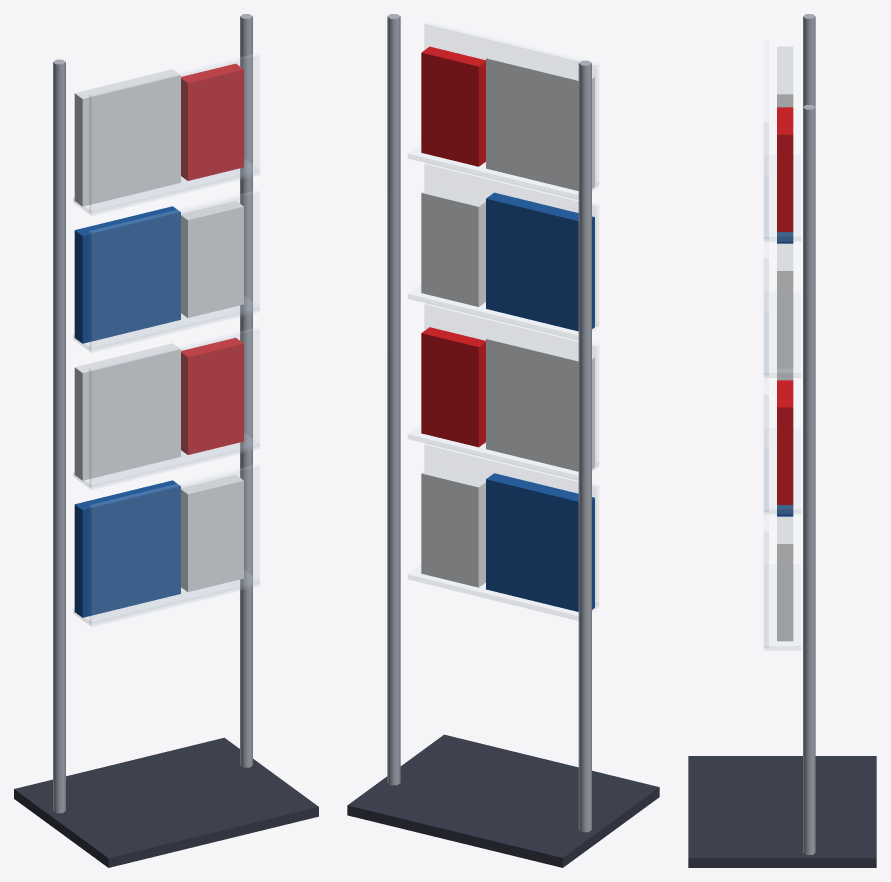
Rendered from evt-012.glb.
3 views of the same model, side by side, from view 1: azimuth 30°, elevation 25°; view 2: azimuth 150°, elevation 25°; view 3: azimuth 270°, elevation 25° (orthographic). The views are drawn at different scales.
Parts seen in each view (by area): view 1: glass_clear, white, airline_blue, dark_steel, steel, accent_red; view 2: white, airline_blue, dark_steel, steel, glass_clear, accent_red; view 3: dark_steel, steel, glass_clear, white, accent_red, airline_blue.
Part boxes in pixels (x1,y1,x2,y2): glass_clear: (73, 53, 259, 626); white: (74, 69, 243, 591); airline_blue: (74, 206, 180, 617); dark_steel: (14, 737, 318, 867); steel: (53, 14, 252, 813); accent_red: (181, 63, 243, 454); white: (421, 52, 594, 587); airline_blue: (486, 192, 594, 611); dark_steel: (347, 734, 659, 867); steel: (387, 14, 591, 832); glass_clear: (408, 22, 598, 620); accent_red: (421, 46, 485, 447); dark_steel: (688, 756, 876, 867); steel: (803, 14, 815, 854); glass_clear: (763, 41, 800, 649); white: (777, 46, 793, 641); accent_red: (777, 107, 793, 504); airline_blue: (777, 232, 793, 516).
Bounding box in the file's own units: 0.45 × 1.55 × 0.35.
